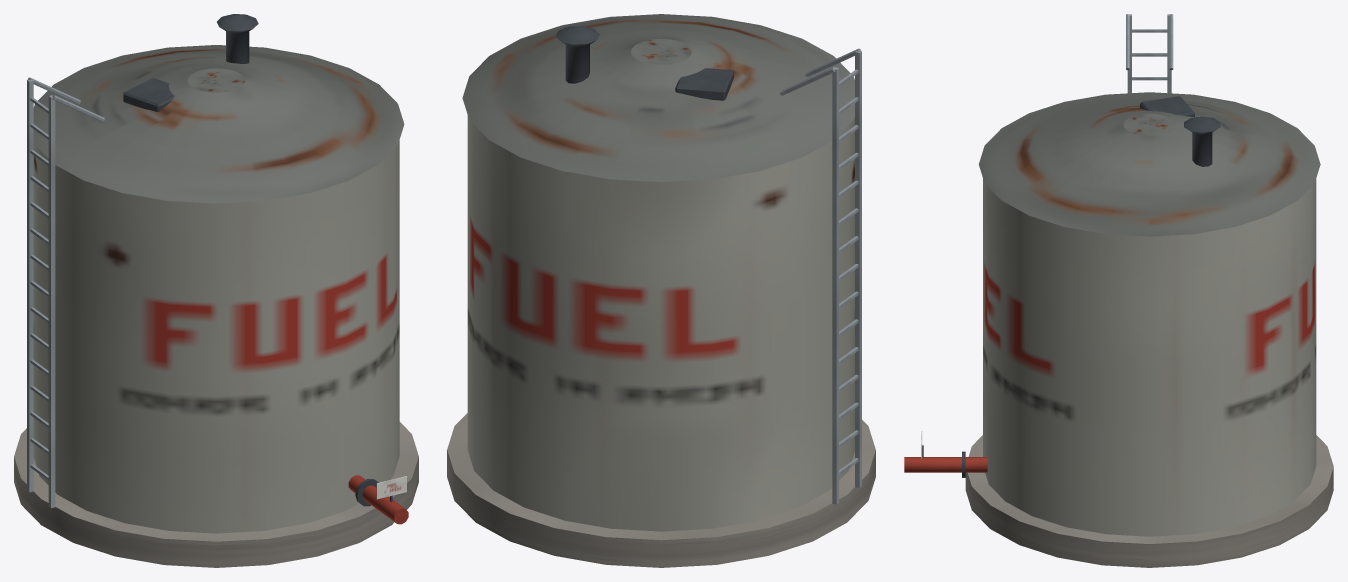
Rendered from tank_fuel_lc.obj.
3 views of the same model, side by side, from view 1: azimuth 30°, elevation 25°; view 2: azimuth 150°, elevation 25°; view 3: azimuth 270°, elevation 25° (orthographic). The views are drawn at different scales.
Visible parts, largest first — view 1: tank_fuel_lc; view 2: tank_fuel_lc; view 3: tank_fuel_lc.
Part boxes in pixels (box(x1,y1,x2,y2)): tank_fuel_lc: box(14, 14, 418, 567); tank_fuel_lc: box(447, 14, 875, 567); tank_fuel_lc: box(904, 14, 1333, 567).
Bounding box in the file's own units: 4.22 × 5.02 × 4.9.
Materials: 1 (1 with a texture image).
